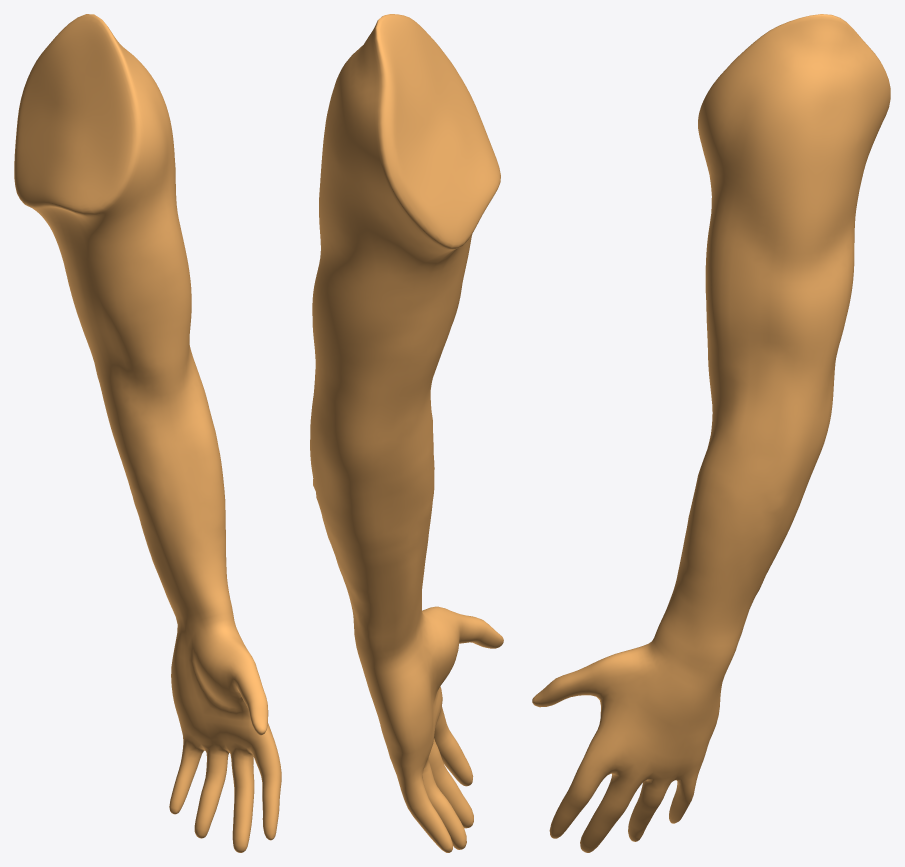
3 views of the same model, side by side, from view 1: azimuth 30°, elevation 25°; view 2: azimuth 150°, elevation 25°; view 3: azimuth 270°, elevation 25° (orthographic). The views are drawn at different scales.
Parts seen in each view (by area): view 1: arm2OBJcleanermaterialmergergles; view 2: arm2OBJcleanermaterialmergergles; view 3: arm2OBJcleanermaterialmergergles.
Part boxes in pixels (x1,y1,x2,y2): arm2OBJcleanermaterialmergergles: (14, 14, 281, 852); arm2OBJcleanermaterialmergergles: (310, 14, 503, 852); arm2OBJcleanermaterialmergergles: (532, 14, 890, 852).
Bounding box in the file's own units: 3.61 × 17.36 × 6.89.
